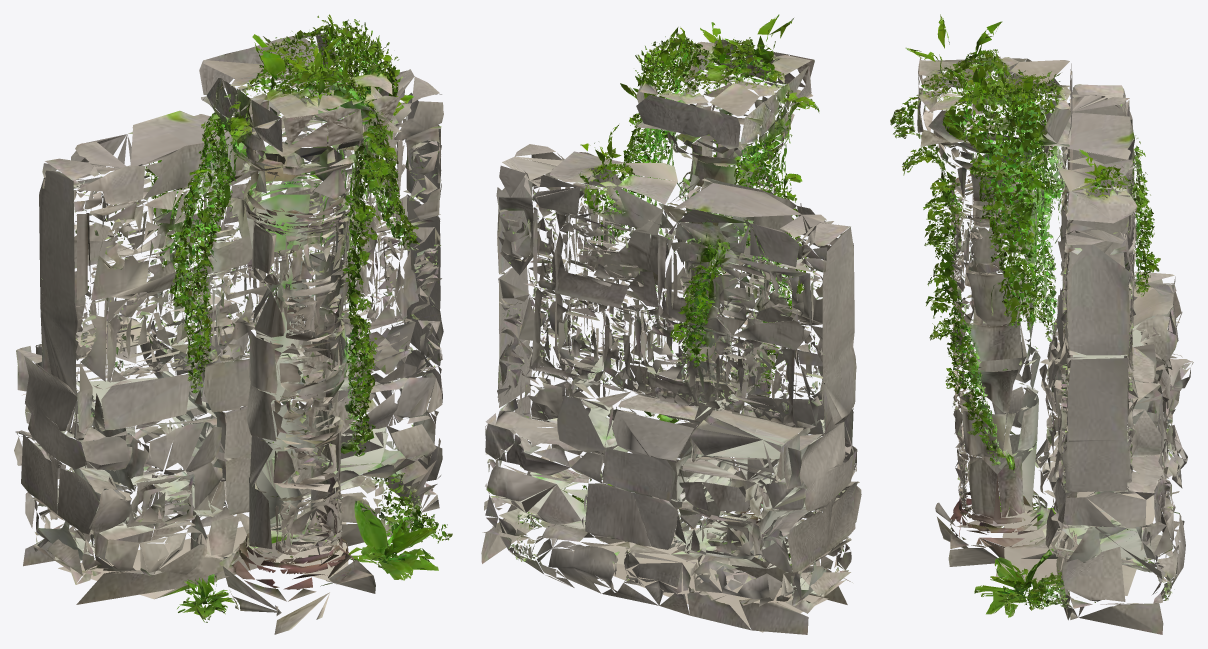
The model's file is ruin_column_opt.glb.
3 views of the same model, side by side, from view 1: azimuth 30°, elevation 25°; view 2: azimuth 150°, elevation 25°; view 3: azimuth 270°, elevation 25° (orthographic). The views are drawn at different scales.
Visible parts, largest first — view 1: aztec_ruin_column_refined; view 2: aztec_ruin_column_refined; view 3: aztec_ruin_column_refined.
Part boxes in pixels (x1,y1,x2,y2): aztec_ruin_column_refined: (14,14,452,634); aztec_ruin_column_refined: (481,14,861,634); aztec_ruin_column_refined: (890,14,1193,634).
Size of the model in its own units: 1.27 by 1.9 by 1.
Materials: 1 (1 with a texture image).
